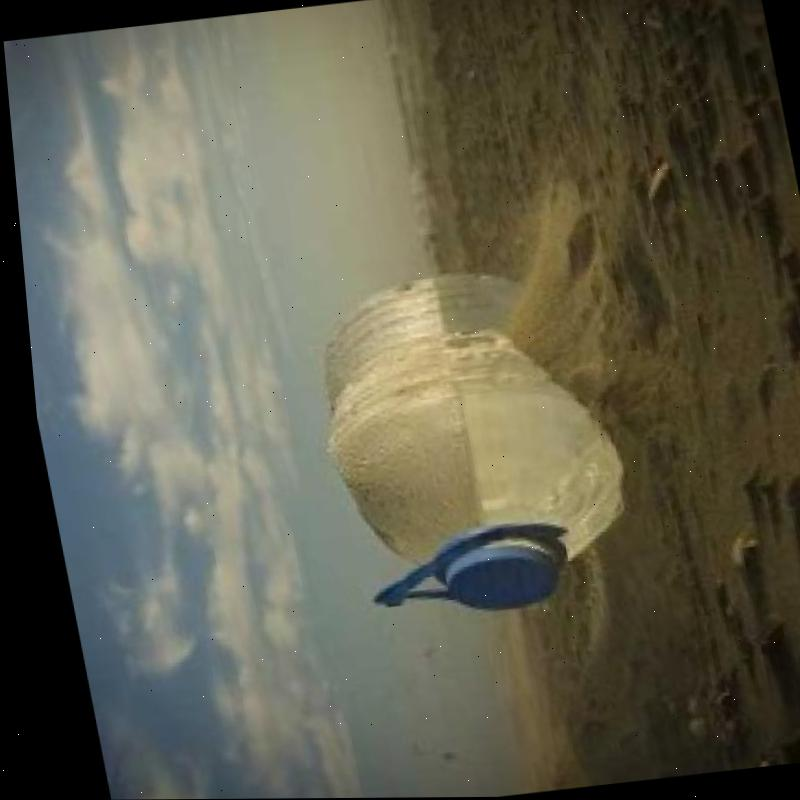botella: (297, 261, 645, 628)
